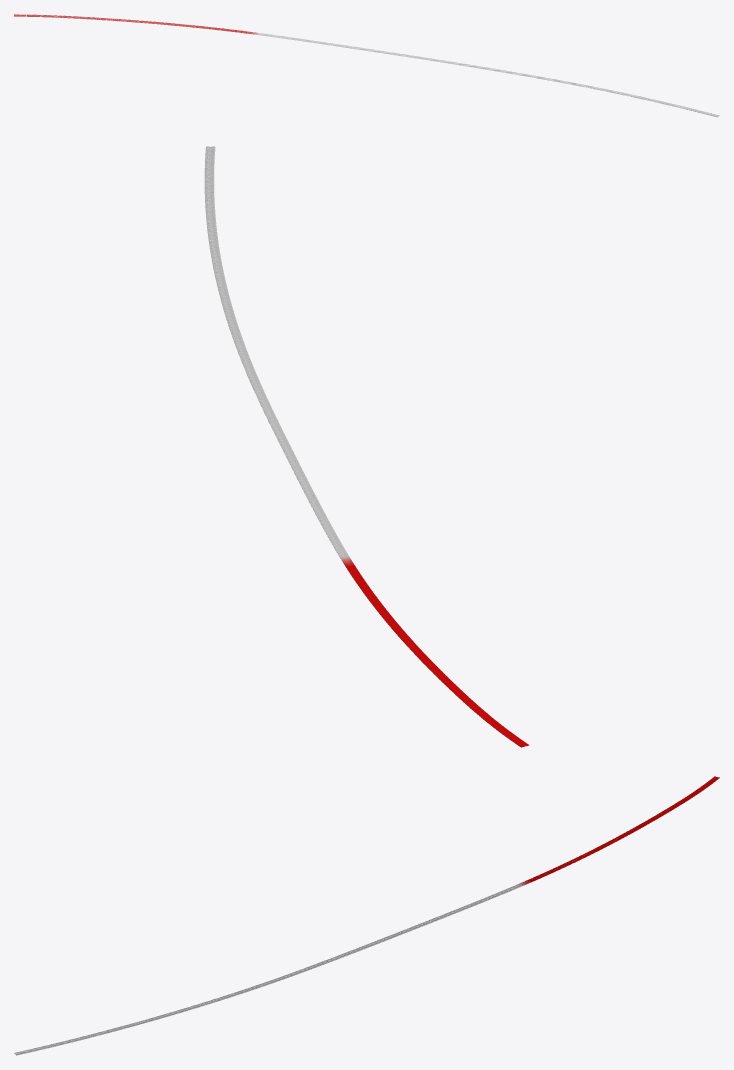
The model's file is SleepersMerged_34.fbx.
3 views of the same model, one above another, from view 1: azimuth 30°, elevation 25°; view 2: azimuth 150°, elevation 25°; view 3: azimuth 270°, elevation 25° (orthographic). The views are drawn at different scales.
Parts seen in each view (by area): view 1: S_34; view 2: S_34; view 3: S_34.
Part boxes in pixels (<box>): S_34: <box>14,14,719,117</box>; S_34: <box>204,146,529,747</box>; S_34: <box>14,776,719,1055</box>.
Bounding box in the file's own units: 28348 × 390 × 31160.
